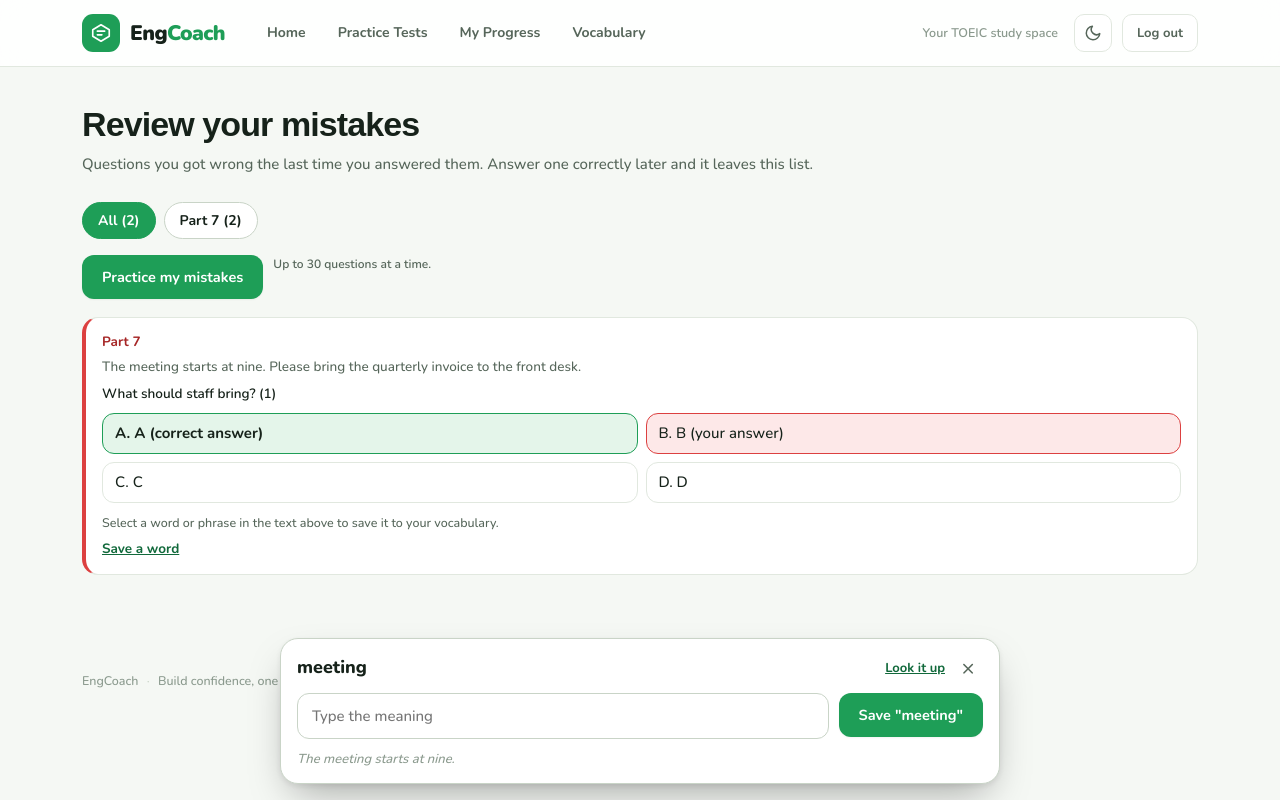
Test: Saving a selected word › keeps the selection when the browser clears it, and Dismiss removes it
Expected: the button "Save \"meeting\"" is shown, [839,693,983,737]
Click the button named "Dismiss": [968, 668] box [953,653,983,683]
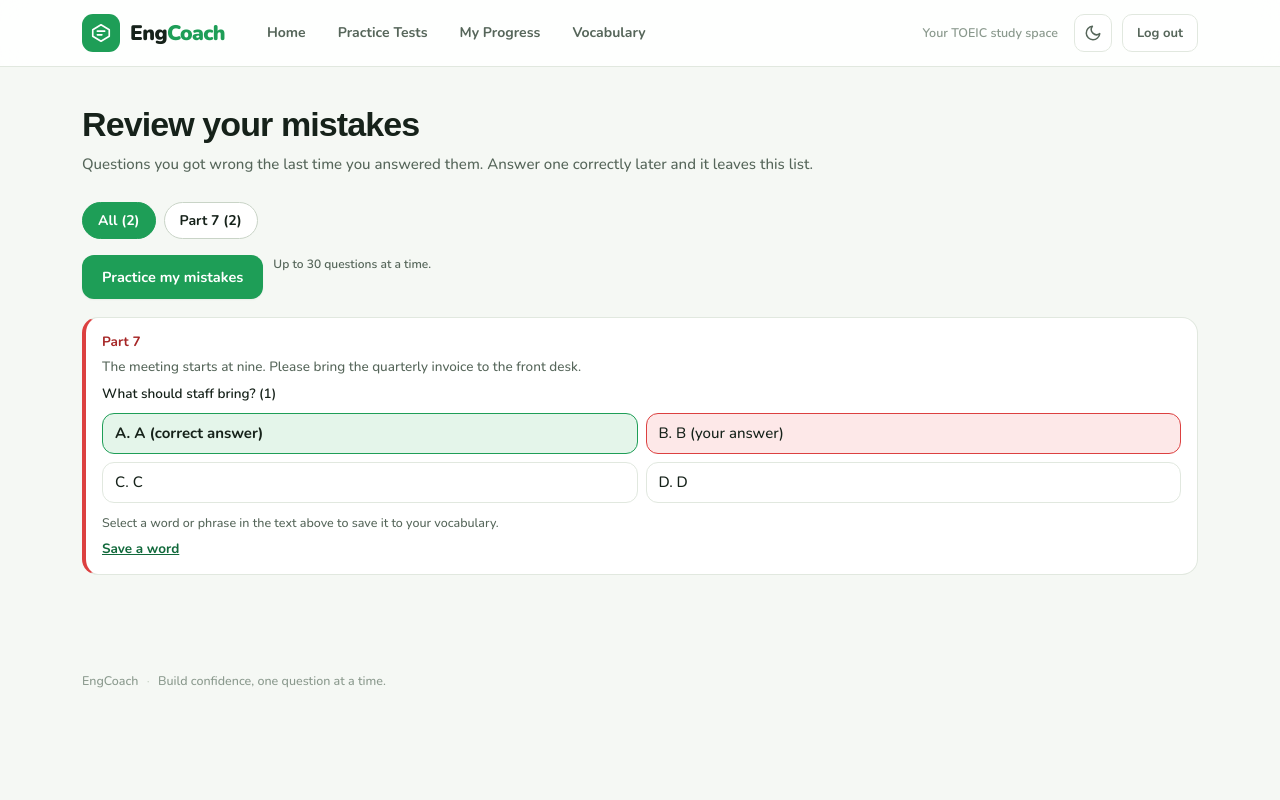
Expected: the button "Save a word" is shown, [102,539,179,560]
Now the button "Save \"meeting\"" is gone
